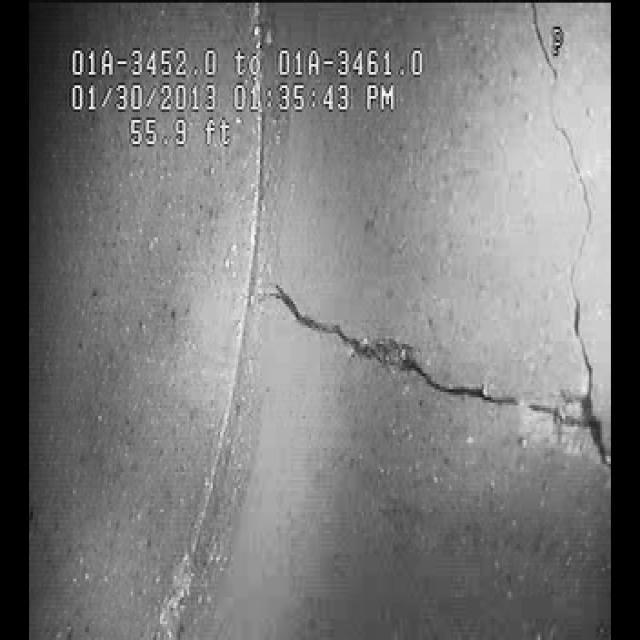Crack: (262, 253, 600, 462)
